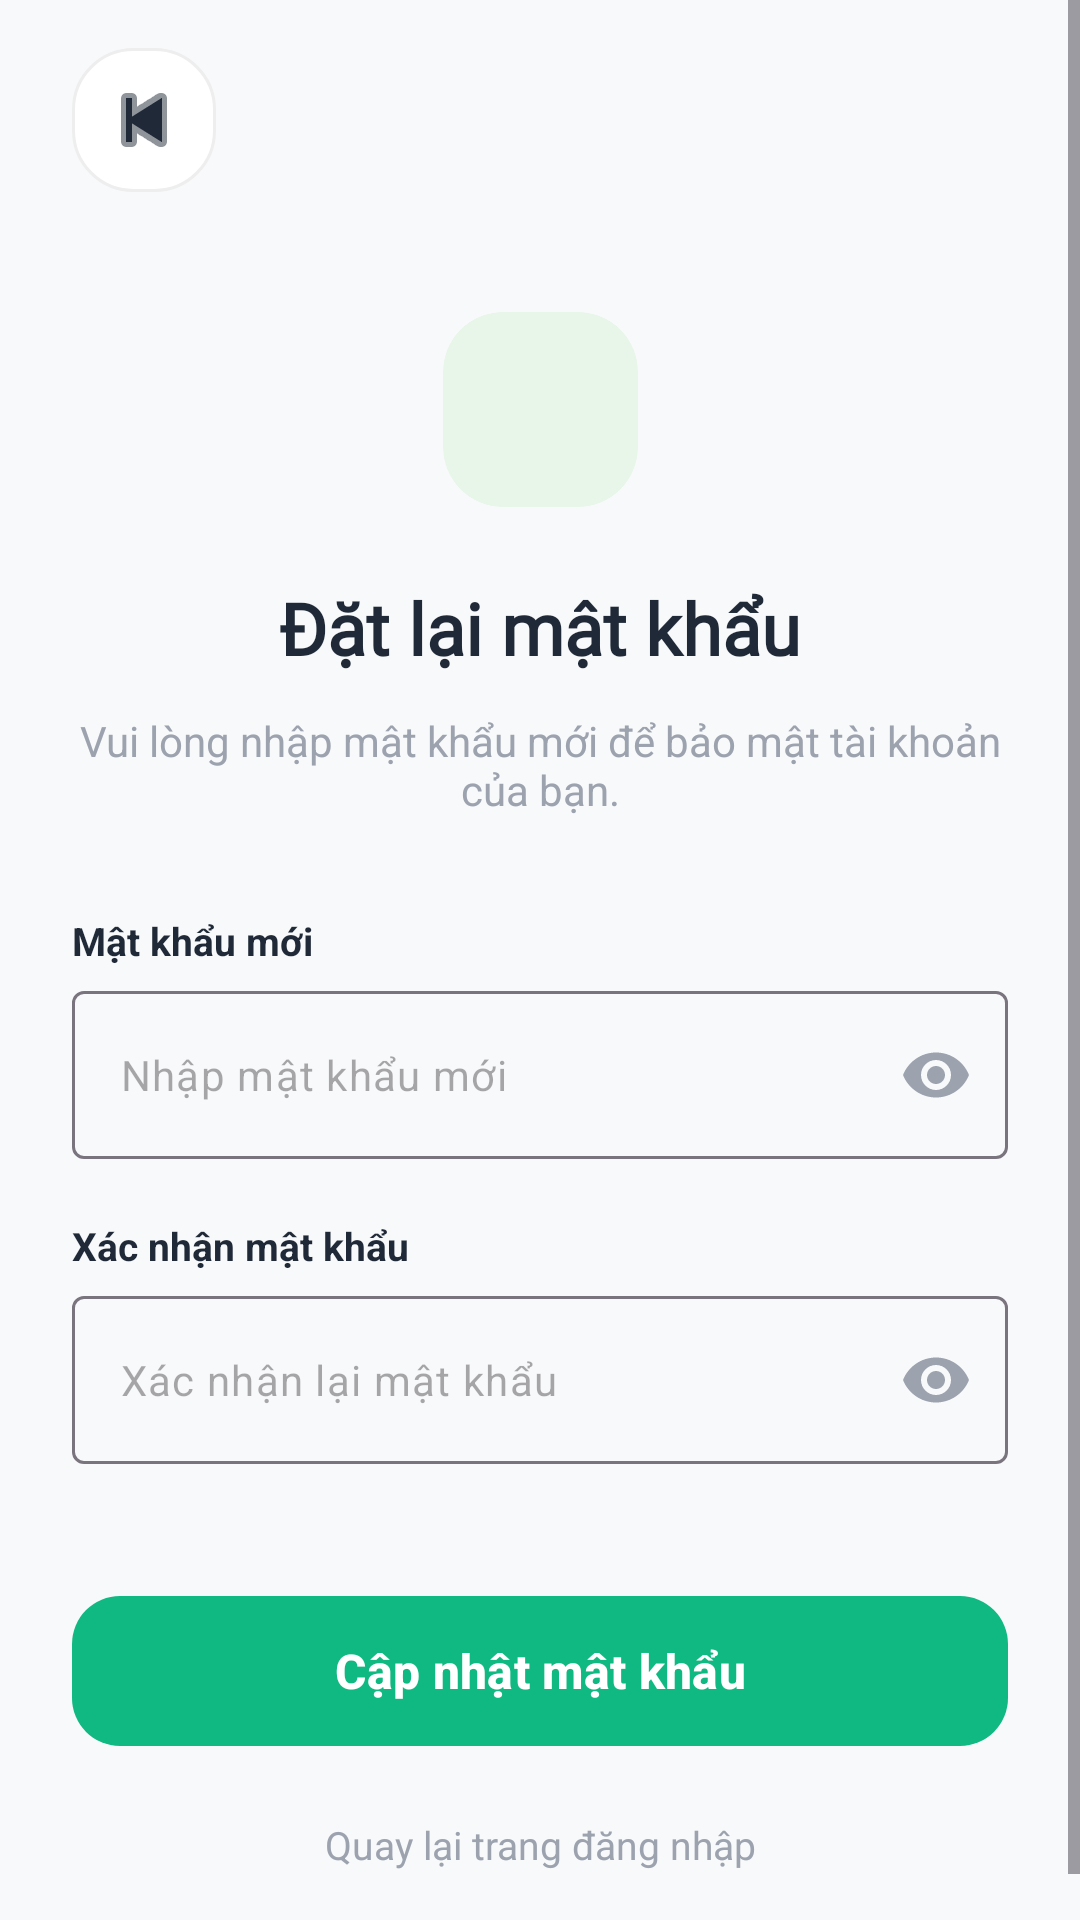

Named icons in this screenshot (1080px×1920px) and their centers, (x=x, y=y):
Quay lại: (x=144, y=120)
